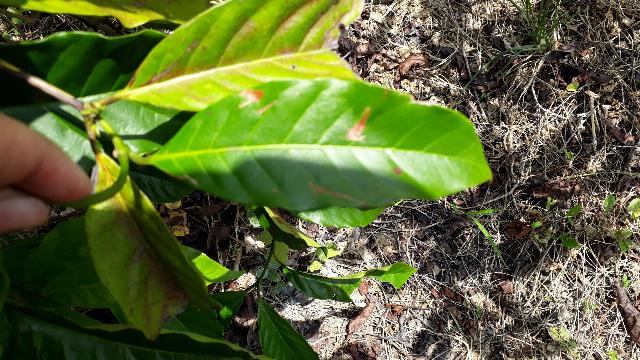red_spider_mite: (144, 74, 496, 211)
